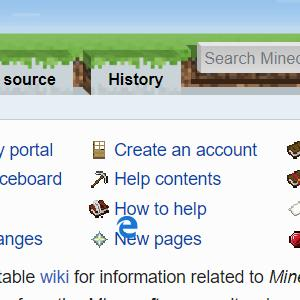edge: (117, 215, 138, 239)
